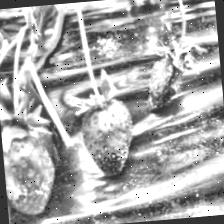Gray Mold: (141, 36, 213, 112)
